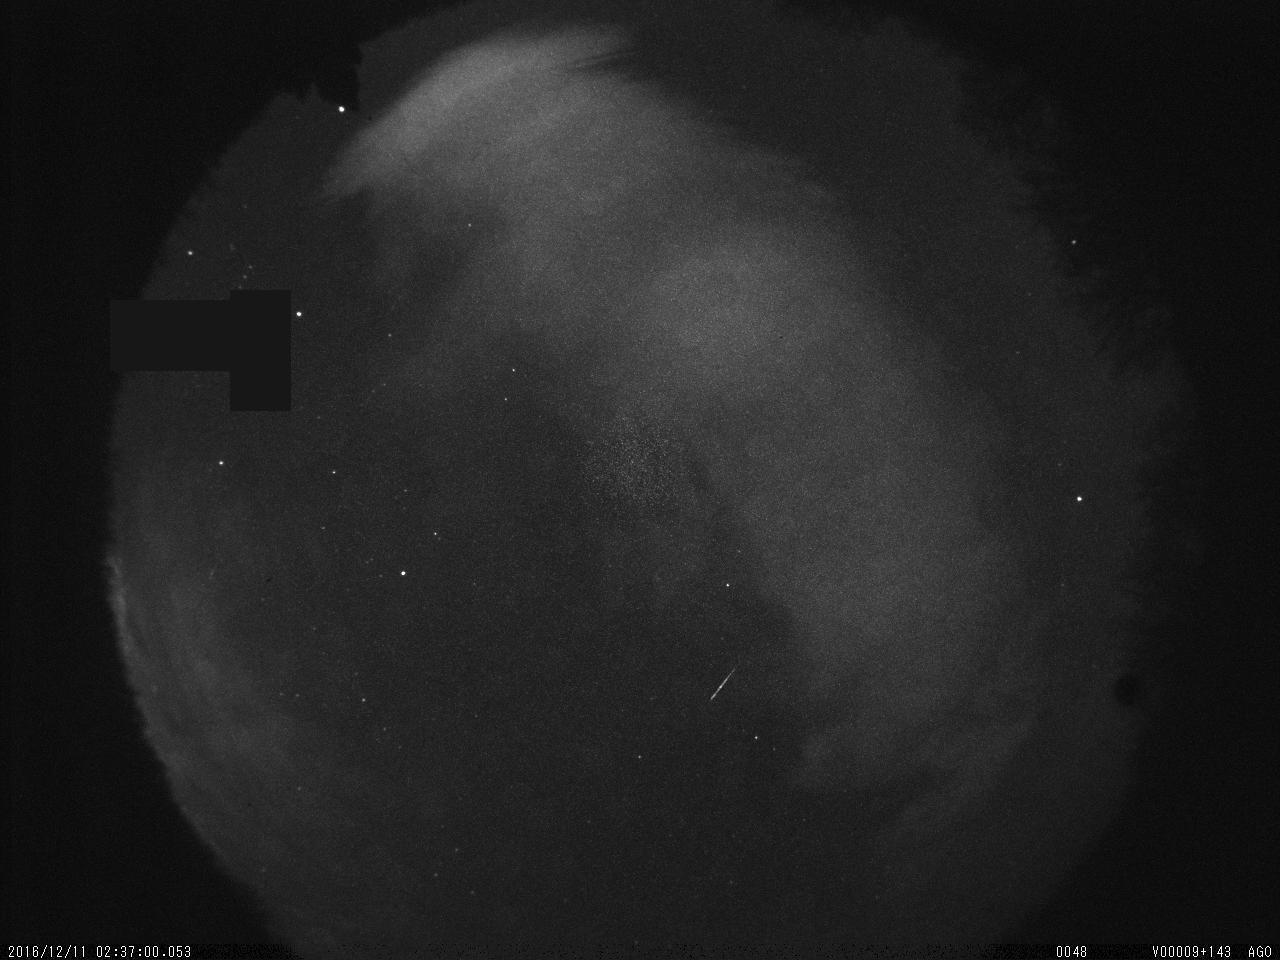meteor: (701, 653, 745, 709)
